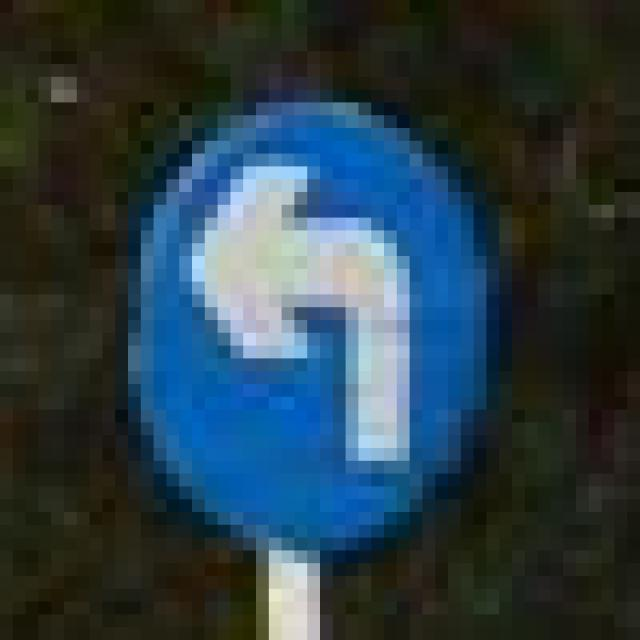compulsory_sound_horn: (115, 90, 474, 538)
